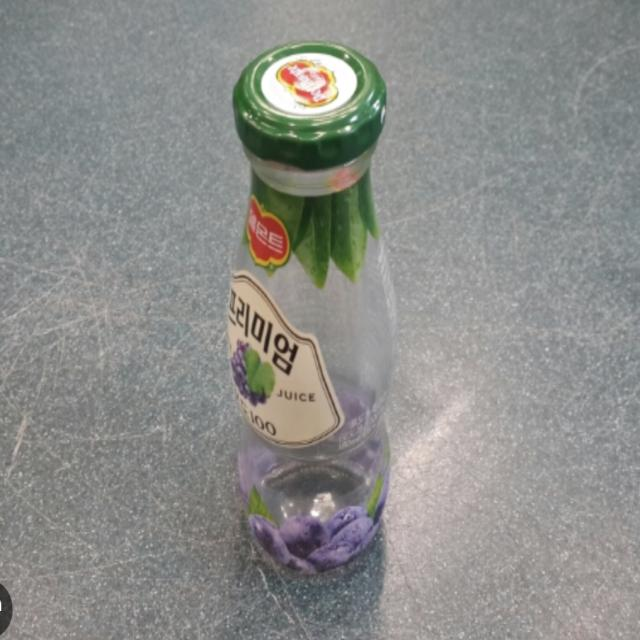recyclable: (219, 30, 394, 602)
